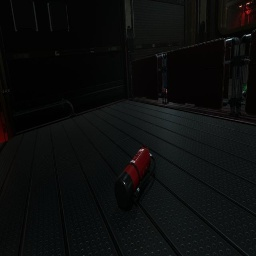0: (242, 85, 247, 98)
FireExtinguisher ]: (114, 143, 156, 208), (164, 88, 167, 98)
